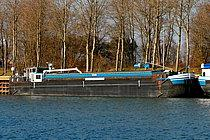Ship: (5, 62, 205, 103)
